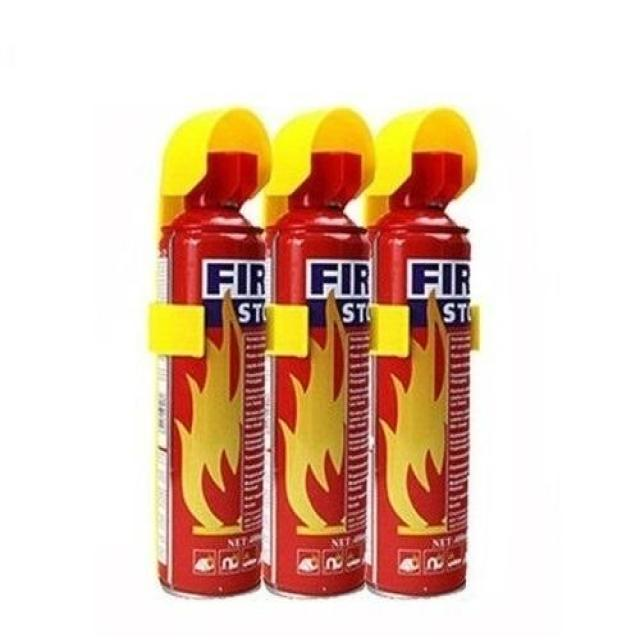fire_extinguisher: (145, 146, 272, 602), (255, 144, 377, 600), (355, 143, 474, 604)
